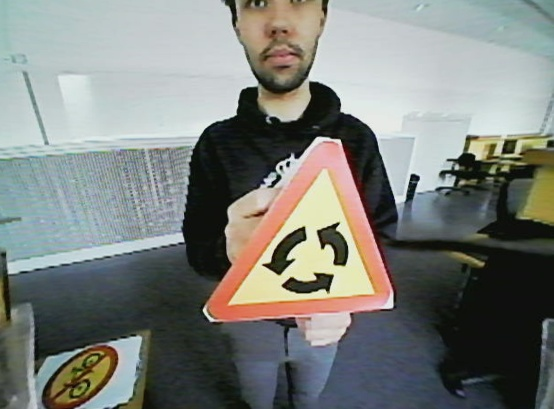roundabout_warning: (183, 133, 396, 322)
